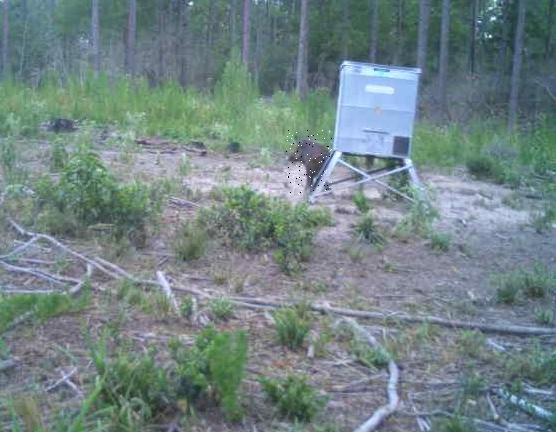Hog: (284, 130, 332, 195)
